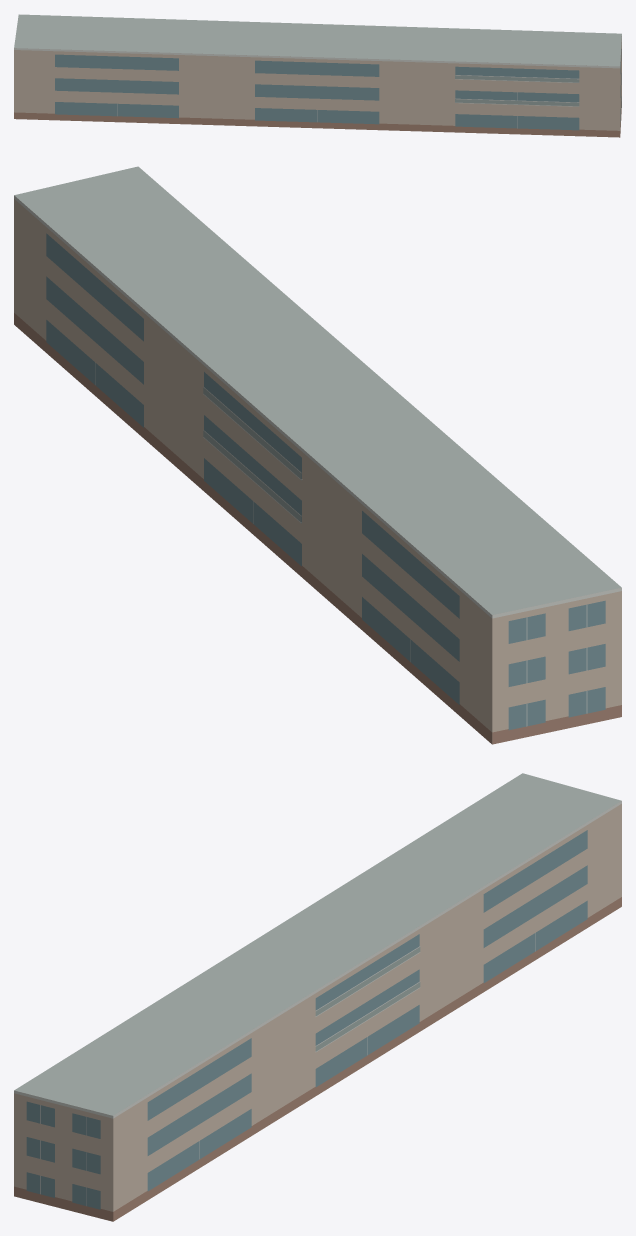
Rendered from survey-upis-32706687.glb.
3 renders of one model, top to bottom at view 1: azimuth 30°, elevation 25°; view 2: azimuth 150°, elevation 25°; view 3: azimuth 270°, elevation 25°, orthographic. The views are drawn at different scales.
Parts seen in each view (by area): view 1: survey-upis-32706687.tmp; view 2: survey-upis-32706687.tmp; view 3: survey-upis-32706687.tmp.
Boxes of the visible parts, x1,y1,x2,y2 form: survey-upis-32706687.tmp: [14, 14, 621, 137]; survey-upis-32706687.tmp: [14, 166, 621, 744]; survey-upis-32706687.tmp: [14, 773, 621, 1221].
Size of the model in its own units: 63.49 by 9.15 by 47.59.
